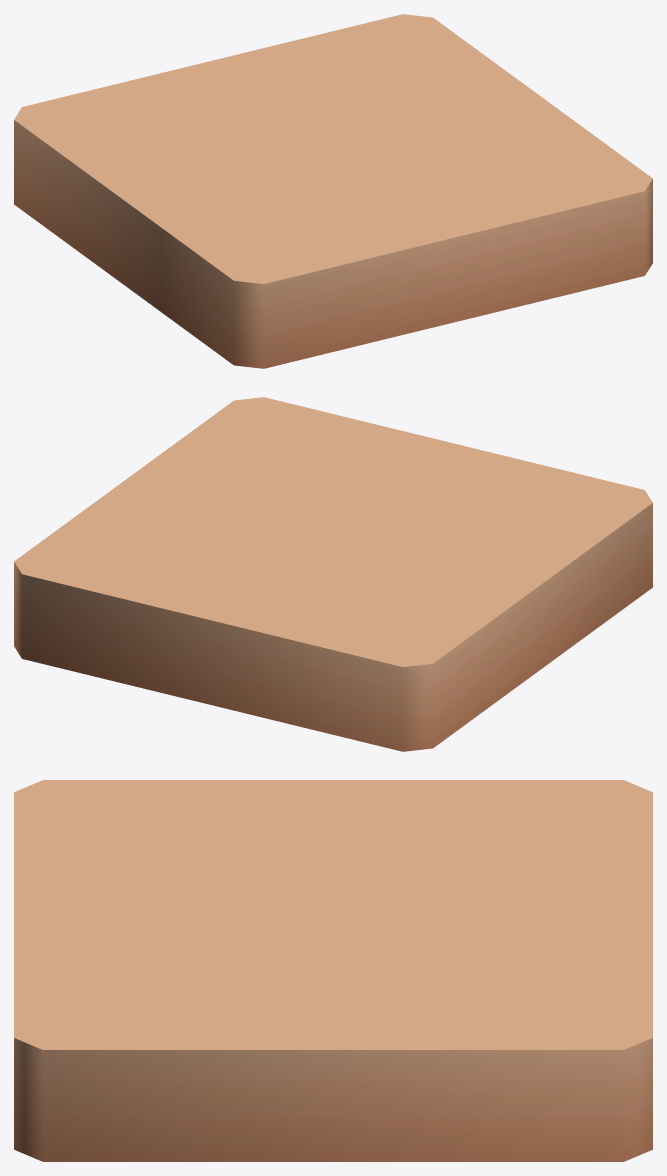
File: kenney-modular-buildings-roof-flat-top.glb
3 views of the same model, one above another, from view 1: azimuth 30°, elevation 25°; view 2: azimuth 150°, elevation 25°; view 3: azimuth 270°, elevation 25° (orthographic). The views are drawn at different scales.
Parts seen in each view (by area): view 1: roof-flat-top; view 2: roof-flat-top; view 3: roof-flat-top.
Boxes of the visible parts, x1,y1,x2,y2 form: roof-flat-top: (14, 14, 652, 368); roof-flat-top: (14, 397, 652, 751); roof-flat-top: (14, 780, 652, 1161).
Size of the model in its own units: 1.1 by 0.2124 by 1.1.
Materials: 1 (1 with a texture image).
